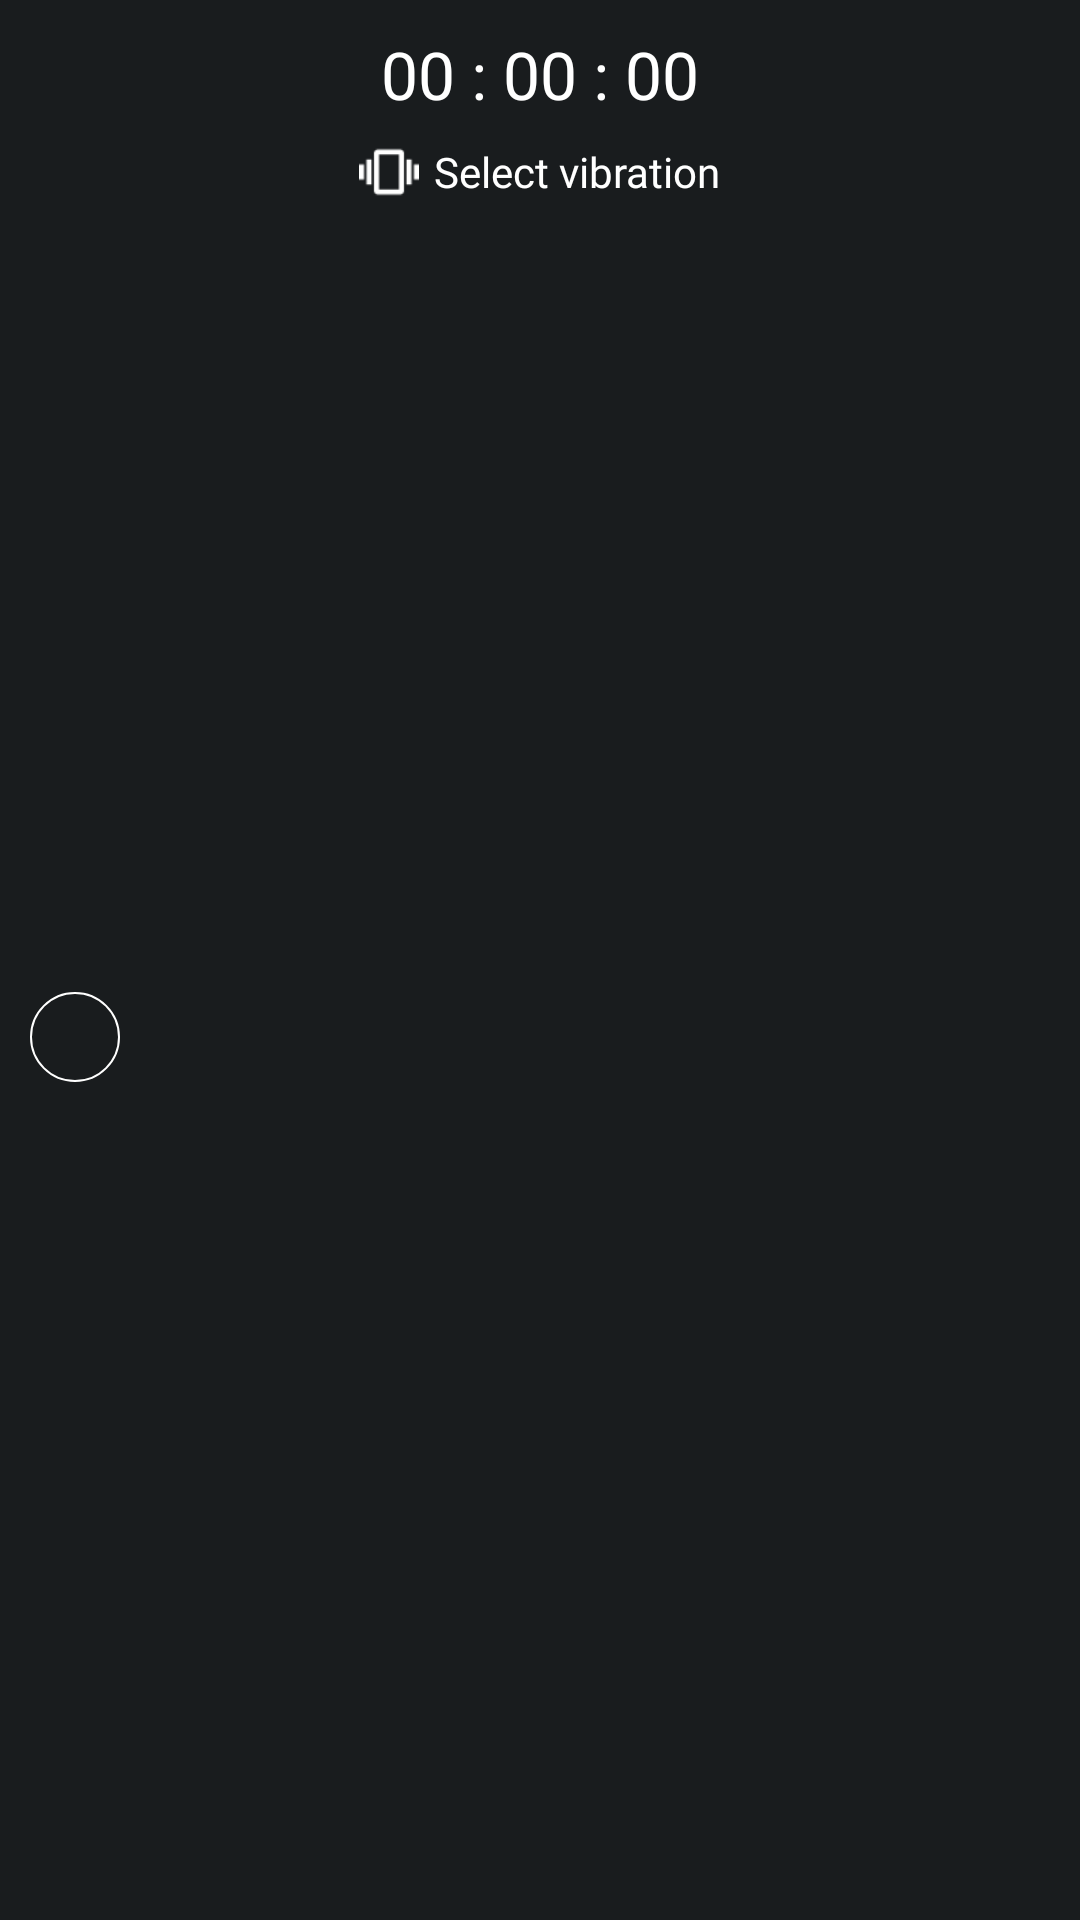

Locate icon controls on the screen. Image size 1080w x 1920h, boxes as (x1, y1, x2, y2).
vibrate: (359, 148, 419, 196)
